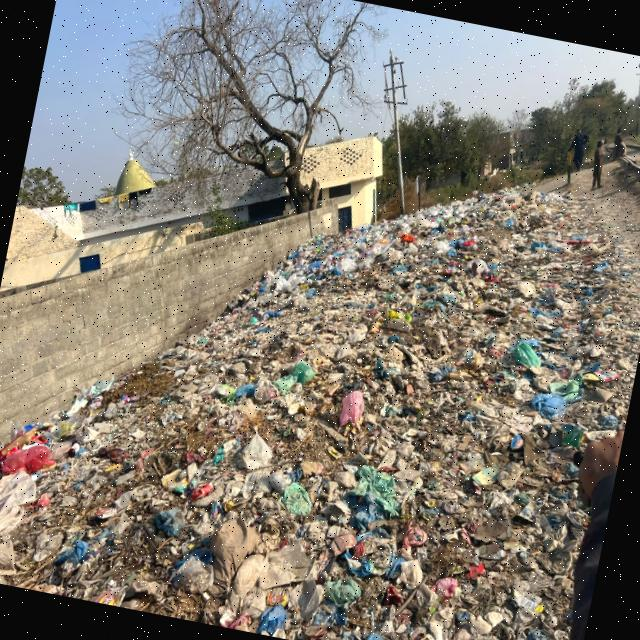garbage: (226, 208, 615, 640), (0, 254, 291, 621), (382, 192, 567, 258)
